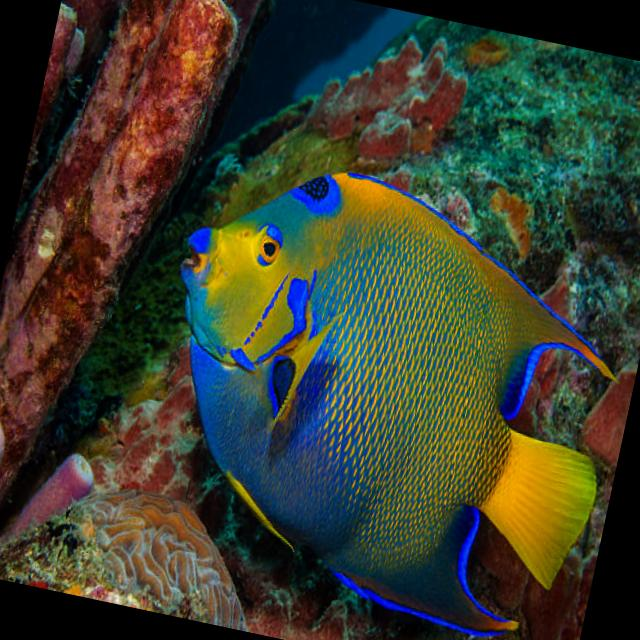AngelFish: (119, 142, 640, 640)
